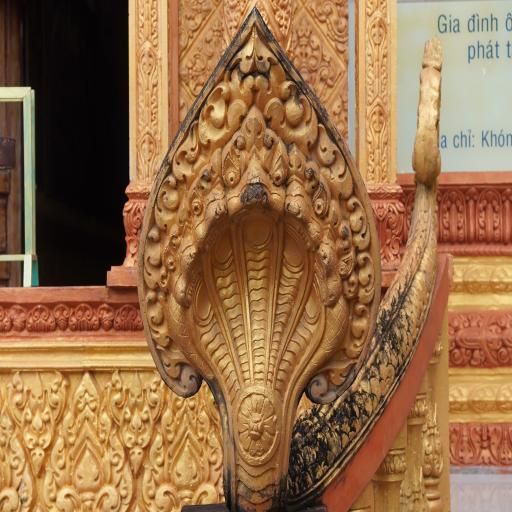la: (365, 12, 391, 106), (134, 42, 161, 131), (362, 102, 392, 182), (475, 183, 512, 245), (440, 186, 477, 244), (287, 14, 323, 72), (179, 51, 207, 95), (136, 127, 158, 178), (66, 303, 100, 330), (112, 302, 144, 330), (0, 301, 26, 334), (204, 18, 226, 57), (26, 304, 54, 332), (98, 303, 116, 329), (54, 303, 69, 331)
lua: (43, 372, 136, 509), (142, 367, 226, 512), (102, 368, 168, 472), (6, 372, 70, 476), (0, 388, 37, 512)
ran: (124, 3, 450, 512)
